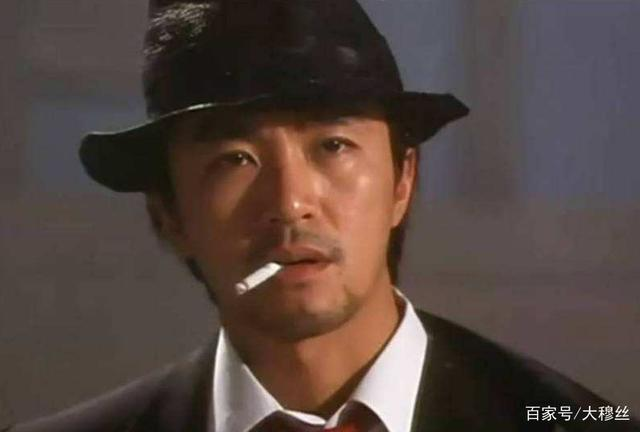smoke: (235, 254, 292, 296)
